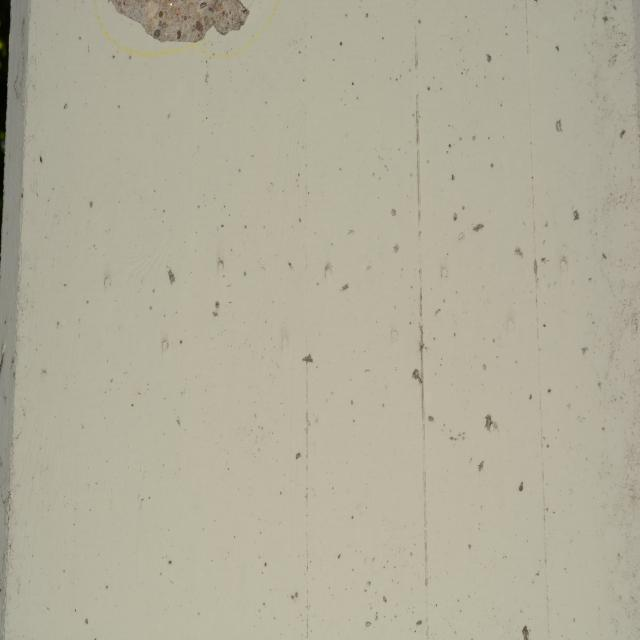concrete spalling: (105, 0, 251, 44)
